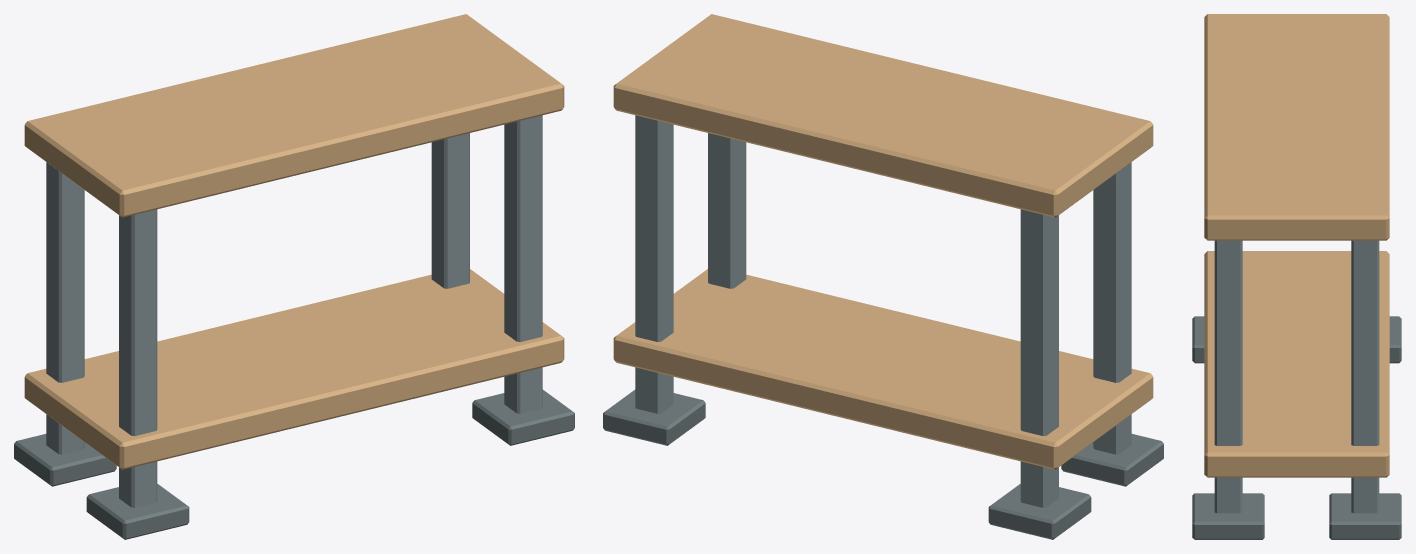
3 renders of one model, left to right at view 1: azimuth 30°, elevation 25°; view 2: azimuth 150°, elevation 25°; view 3: azimuth 270°, elevation 25°, orthographic. The views are drawn at different scales.
Parts seen in each view (by area): view 1: fitness-equipment-rack-01; view 2: fitness-equipment-rack-01; view 3: fitness-equipment-rack-01.
Part boxes in pixels (x1,y1,x2,y2): fitness-equipment-rack-01: (14, 14, 574, 539); fitness-equipment-rack-01: (603, 14, 1163, 539); fitness-equipment-rack-01: (1192, 14, 1401, 539).
Size of the model in its own units: 1.22 by 0.885 by 0.52.
